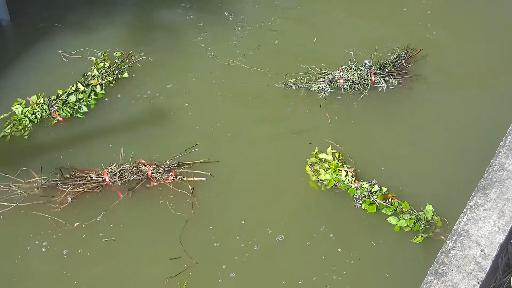twig: (0, 131, 232, 211), (0, 21, 153, 133), (310, 138, 454, 256), (268, 37, 437, 114)
